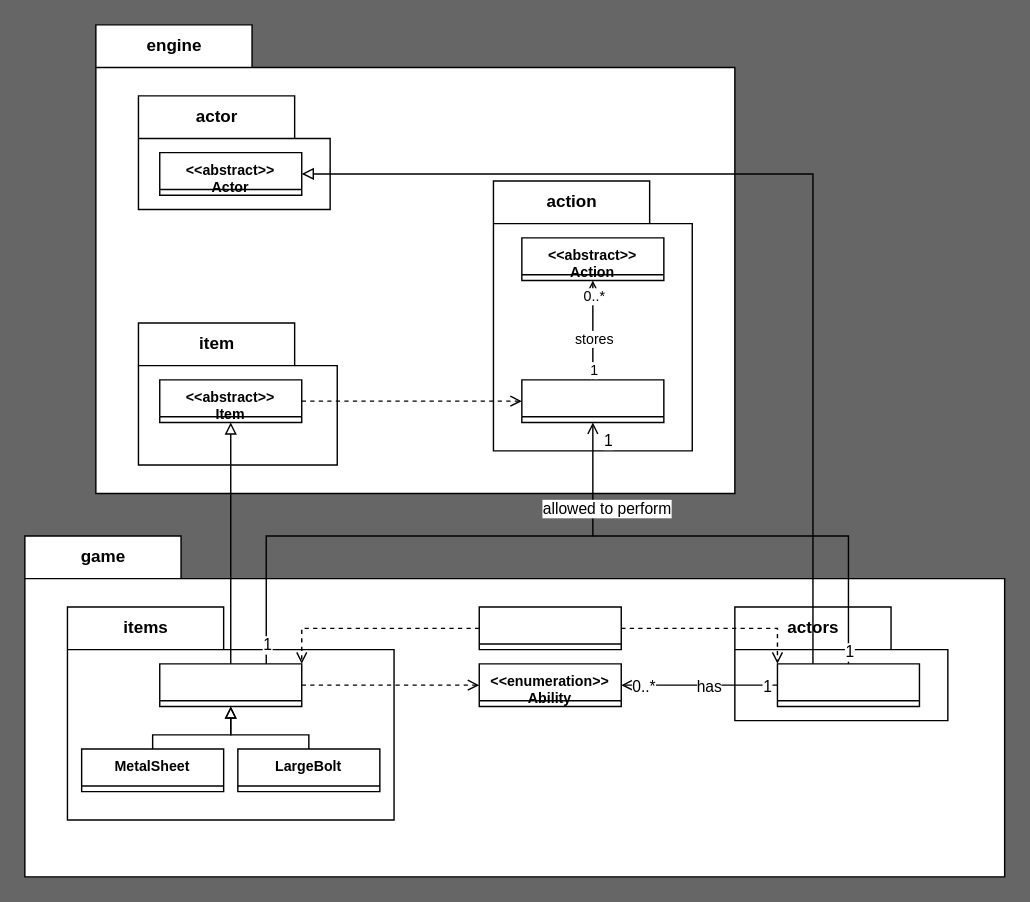
This 1030x902 diagram has some shape labels left out. Here are the shapes that lost their labels. From the top down, the centre of each, then its label:
At [592,400]: "ActionList".
At [549,628]: "Application".
At [230,684]: "Scrap".
At [847,684]: "Player".
